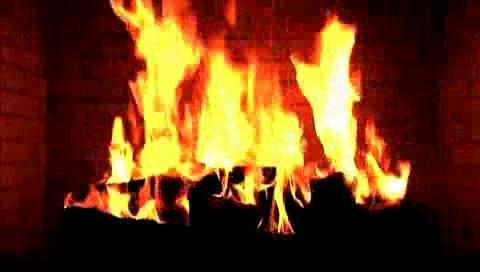fire: (71, 0, 463, 229)
